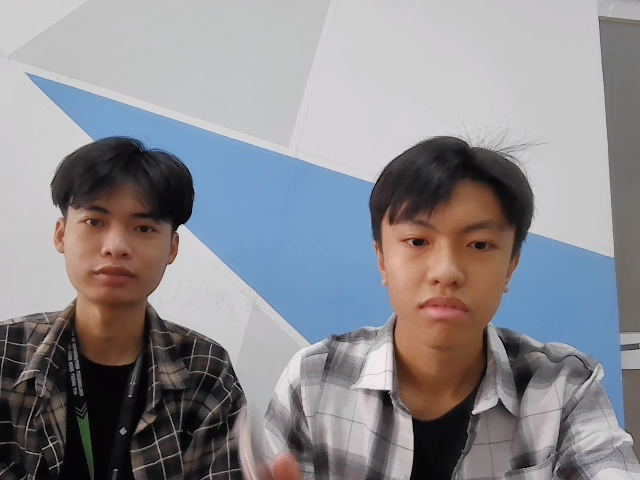human: (371, 137, 534, 349), (52, 135, 194, 308)
